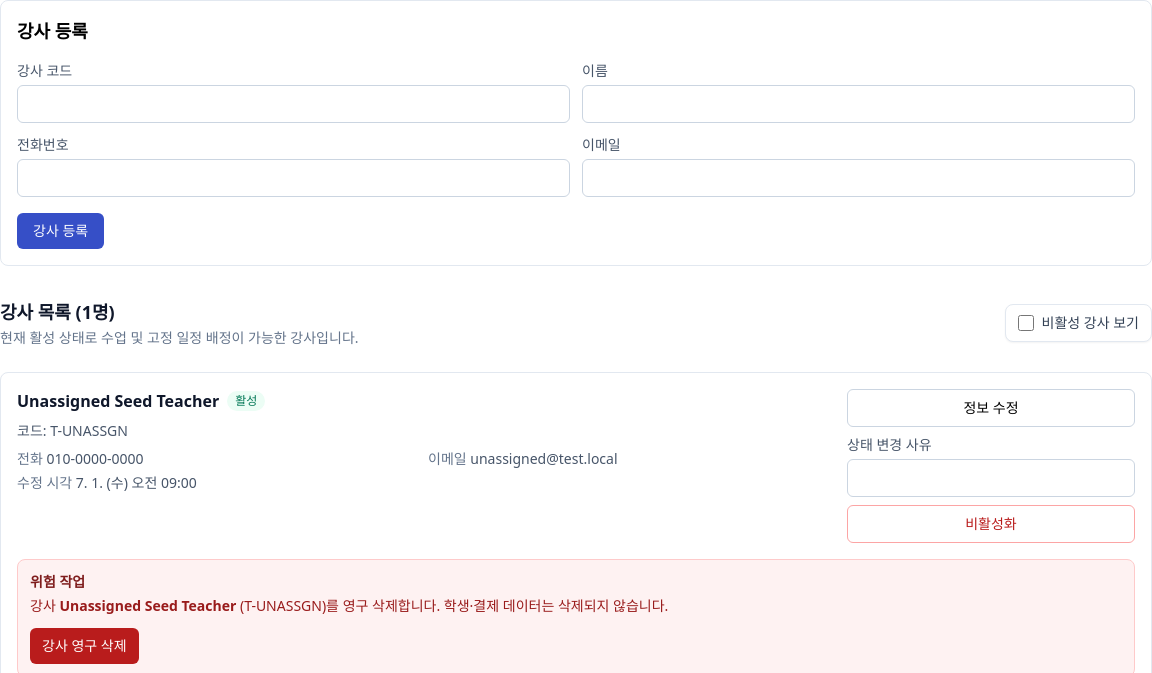
Test: TeachersPanel › rolls back failed optimistic update with stale-state message
The image size is (1152, 673).
Click the button with test id "teacher-edit-T-UNASSGN" at (991, 408), box top-left (847, 389), bottom-right (1135, 427)
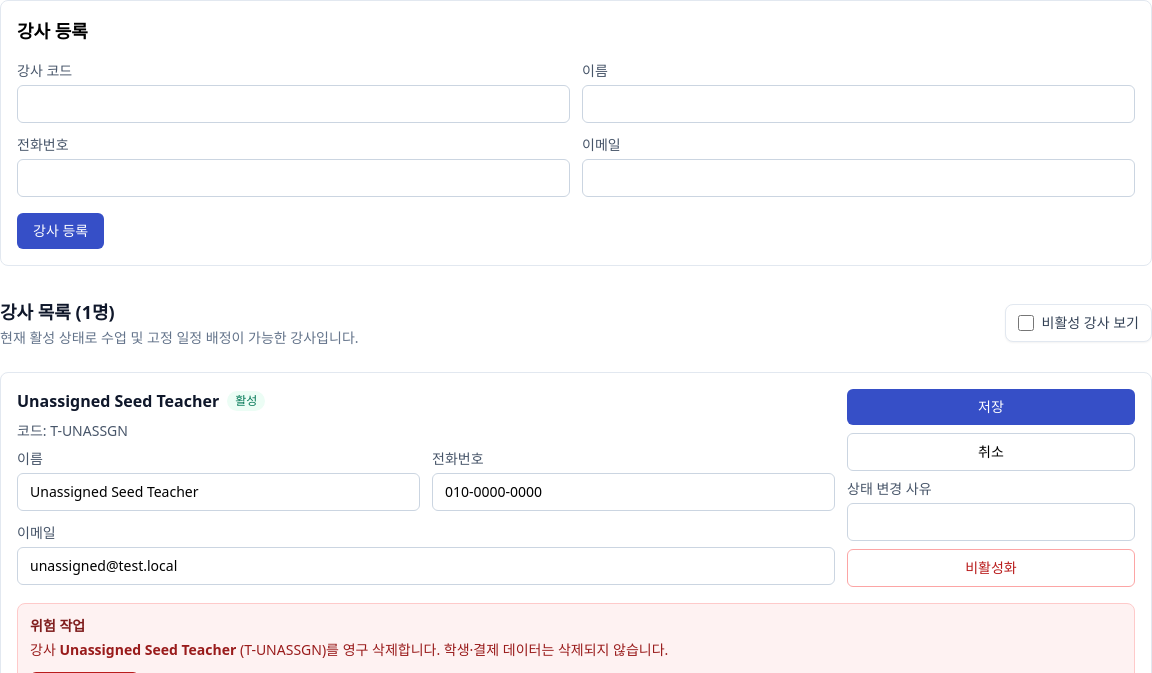
Replace the text in the field with test id "teacher-edit-name-T-UNASSGN" with "Stale Teacher" at (218, 492), box top-left (17, 473), bottom-right (420, 511)
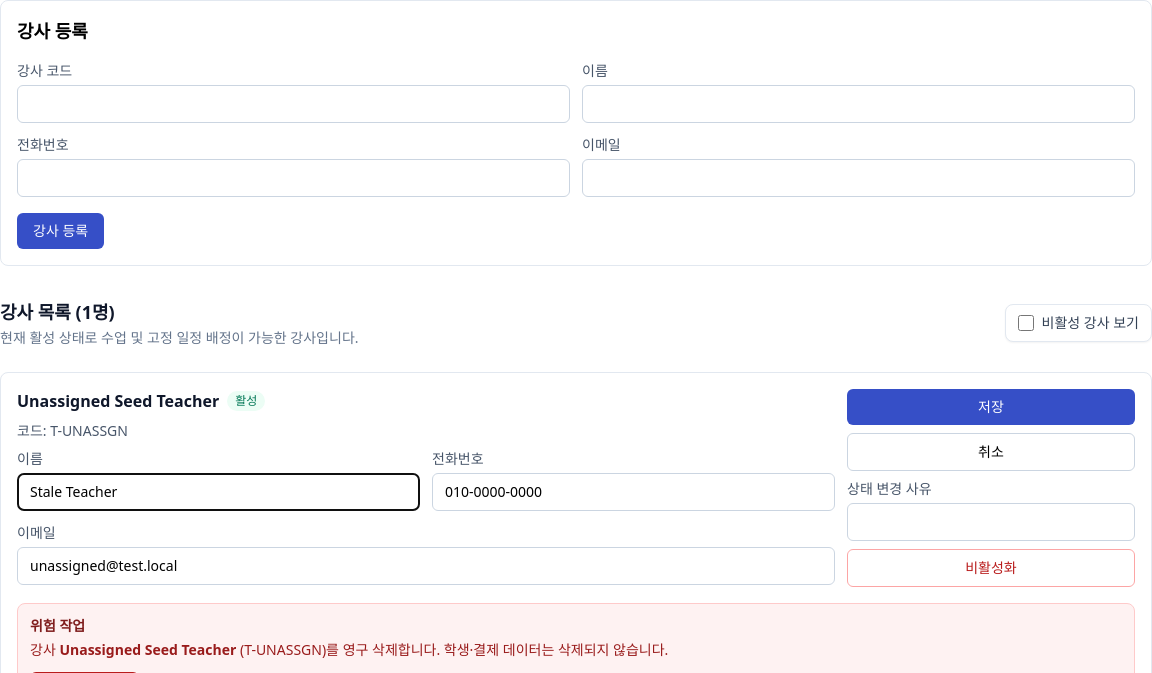
Click the button with test id "teacher-save-T-UNASSGN" at (991, 407), box top-left (847, 389), bottom-right (1135, 425)
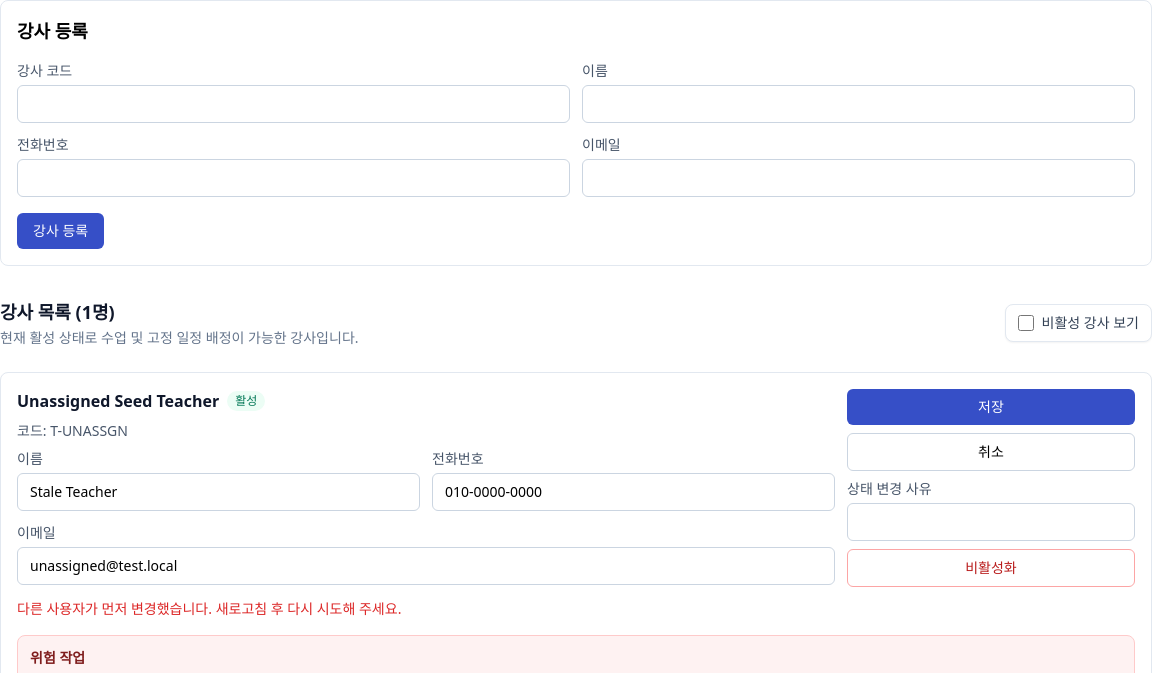
Expected: the message with test id "teacher-error-T-UNASSGN" shows "새로고침", top-left (17, 599), bottom-right (401, 618)
